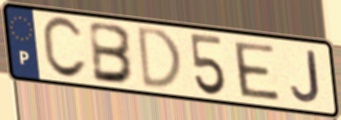5: (187, 32, 227, 98)
B: (87, 19, 137, 87)
C: (39, 14, 90, 82)
D: (136, 24, 185, 91)
E: (231, 40, 283, 104)
J: (288, 49, 323, 106)
